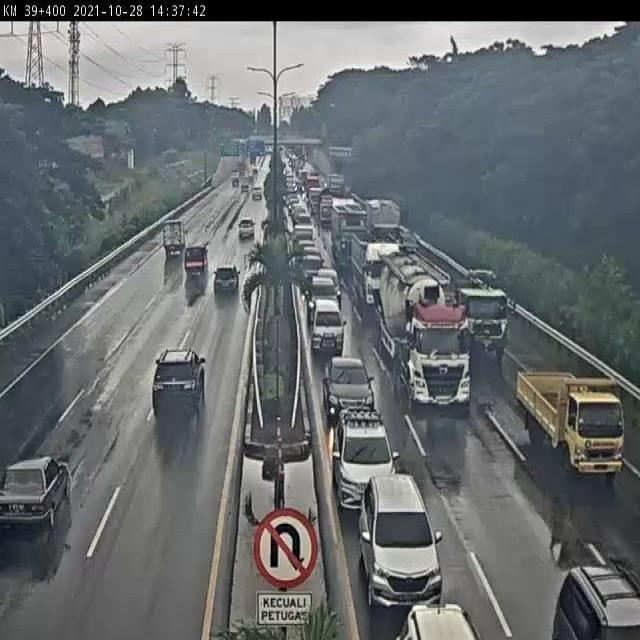big truck: (378, 254, 479, 402), (451, 260, 504, 353), (348, 228, 398, 311), (332, 198, 369, 258)
car: (356, 474, 447, 606), (539, 553, 640, 640), (335, 407, 398, 508), (136, 365, 206, 448), (2, 486, 55, 586), (316, 352, 379, 433), (391, 592, 483, 640), (309, 293, 350, 351), (179, 241, 208, 284), (212, 266, 241, 306), (303, 273, 337, 304), (233, 216, 259, 253), (299, 241, 326, 272)
small truck: (516, 348, 627, 484), (158, 216, 183, 255)
